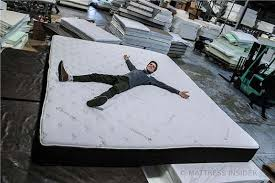bed-matress: (35, 32, 260, 169), (110, 15, 175, 57), (64, 15, 124, 48), (58, 18, 120, 45), (220, 1, 259, 28), (207, 39, 246, 63), (122, 1, 159, 20), (177, 17, 198, 46), (257, 45, 275, 78), (1, 10, 28, 29), (7, 28, 33, 47), (56, 1, 91, 13), (257, 19, 275, 37)
